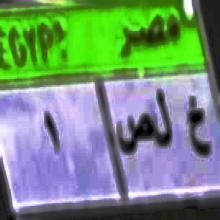1: (43, 104, 62, 156)
khaa: (186, 88, 212, 174)
laam: (152, 84, 173, 161)
saad: (116, 106, 152, 160)
